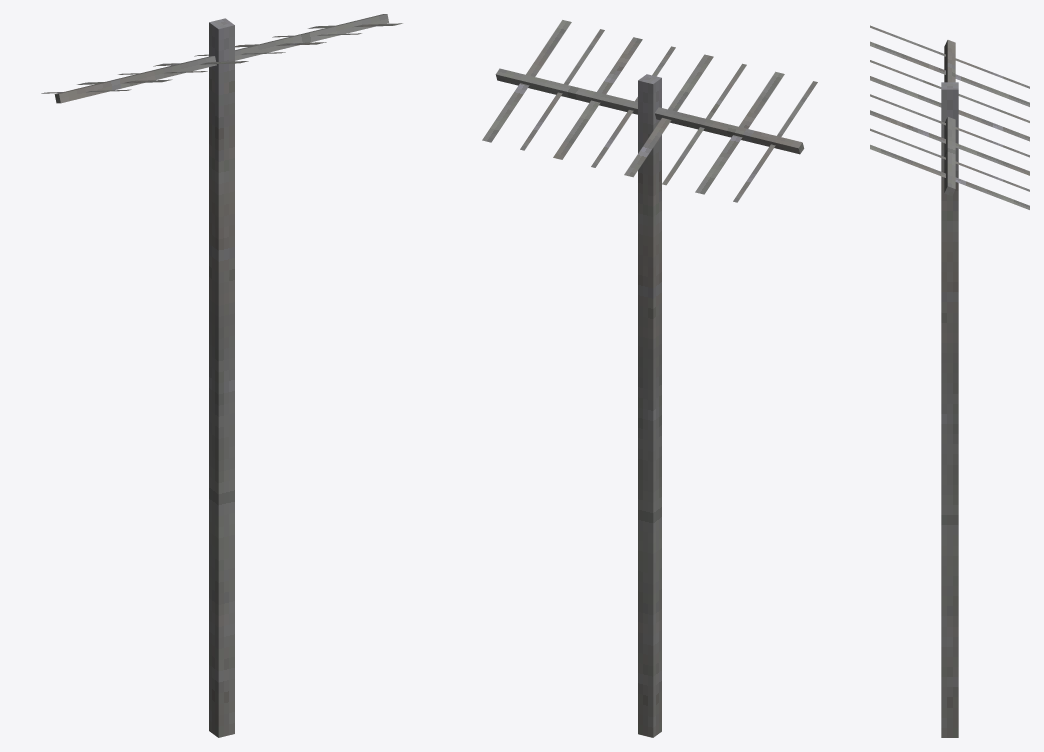
Rendered from Antenna01.obj.
3 renders of one model, left to right at view 1: azimuth 30°, elevation 25°; view 2: azimuth 150°, elevation 25°; view 3: azimuth 270°, elevation 25°, orthographic. The views are drawn at different scales.
Visible parts, largest first — view 1: Antenna01; view 2: Antenna01; view 3: Antenna01.
Part boxes in pixels (x1,y1,x2,y2): Antenna01: (41,14,402,737); Antenna01: (482,20,817,737); Antenna01: (870,25,1029,737).
Size of the model in its own units: 2 by 4.12 by 0.9213.
